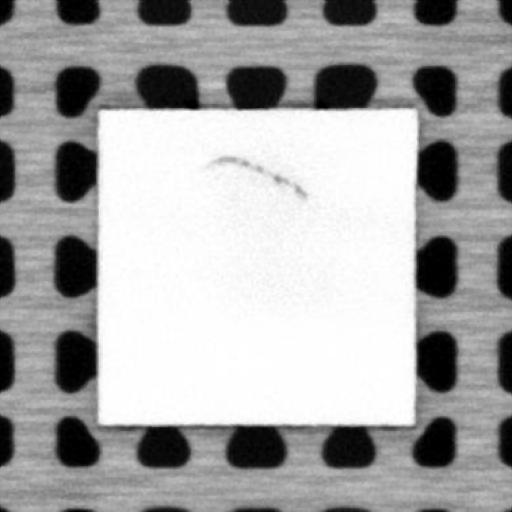DIE_INK: (212, 152, 308, 198)
